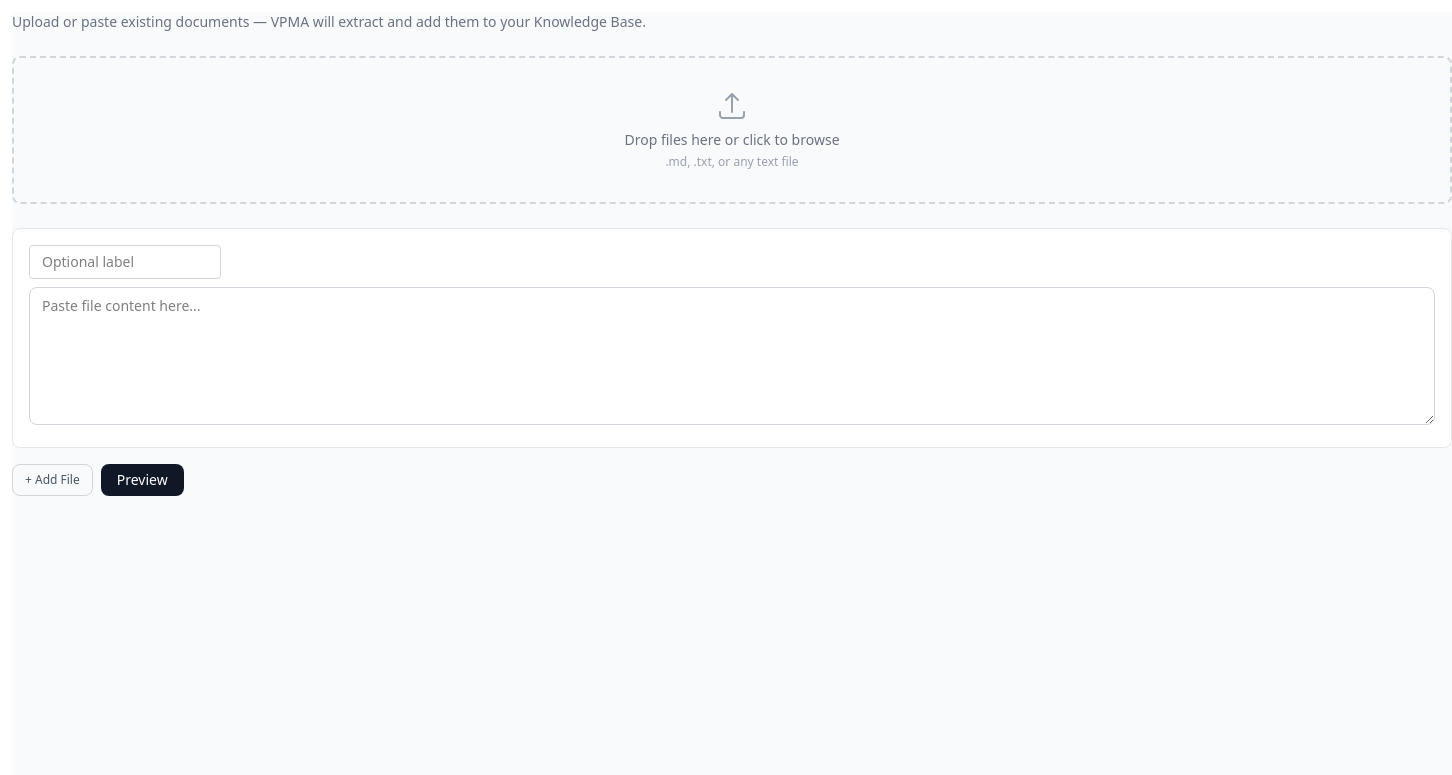
Test: Intake › auto-selects all sections in preview
In the text box with placeholder "Paste file content here...": [732, 356] box [29,287,1435,425], type "Content."
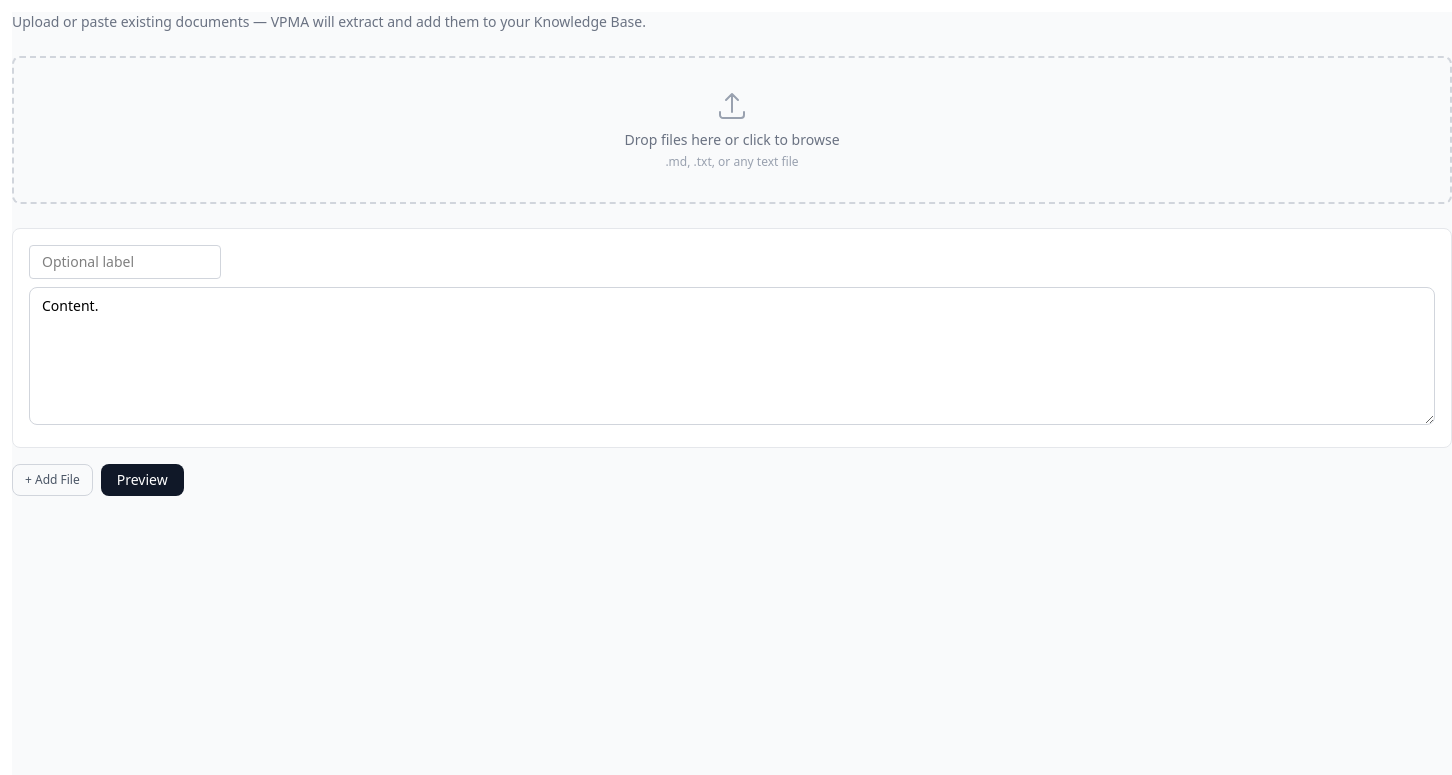
Click the button "Preview": [142, 480] box [101,464,184,496]
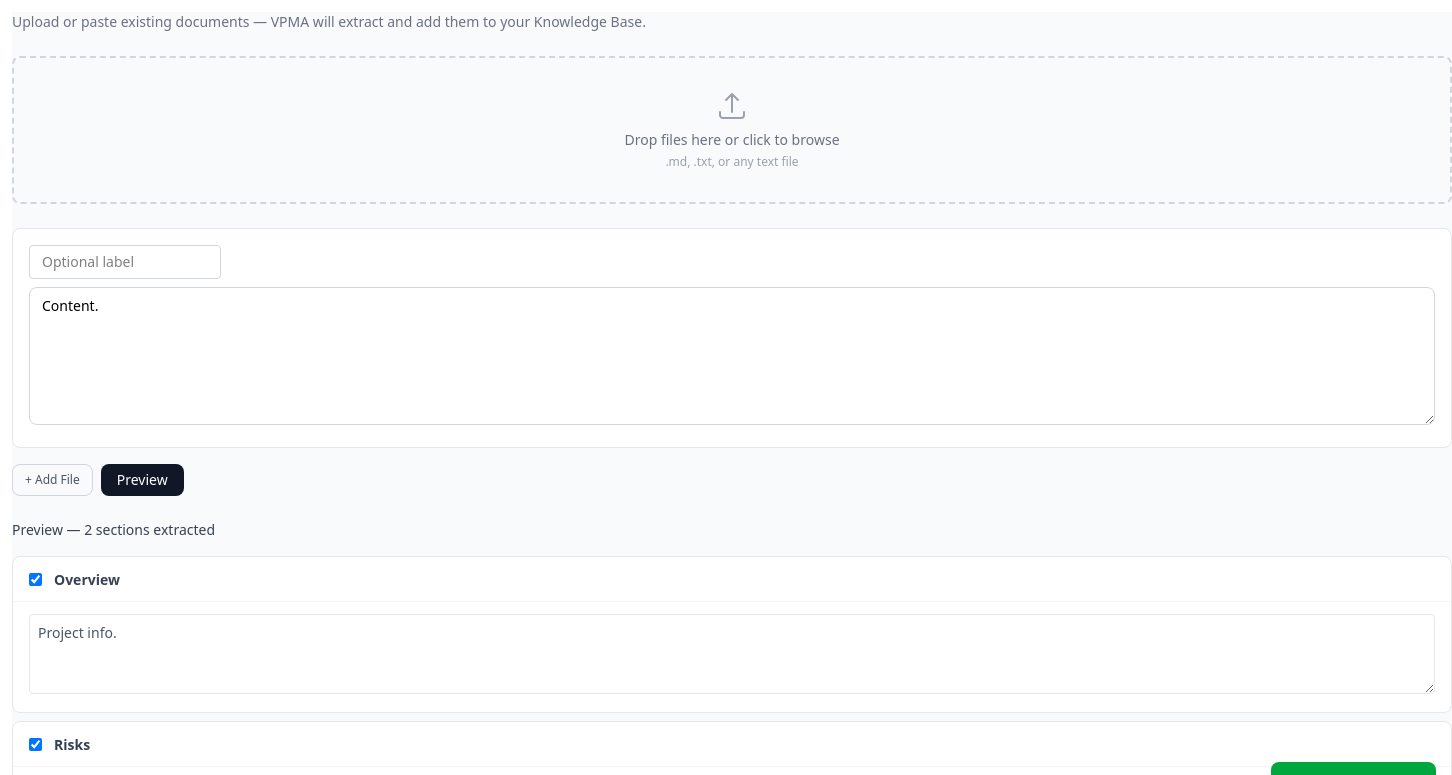
Expected: the number of checkboxes is 2, [29,572,42,586]; [29,738,42,750]
Expected: the checkbox labelled "Overview" is checked, [29,572,42,586]
Expected: the checkbox labelled "Risks" is checked, [29,738,42,750]
